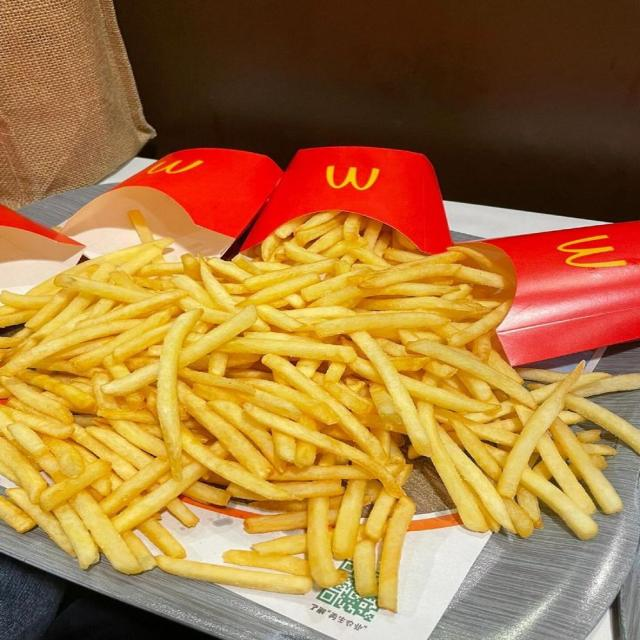potato fries: (0, 211, 639, 610)
